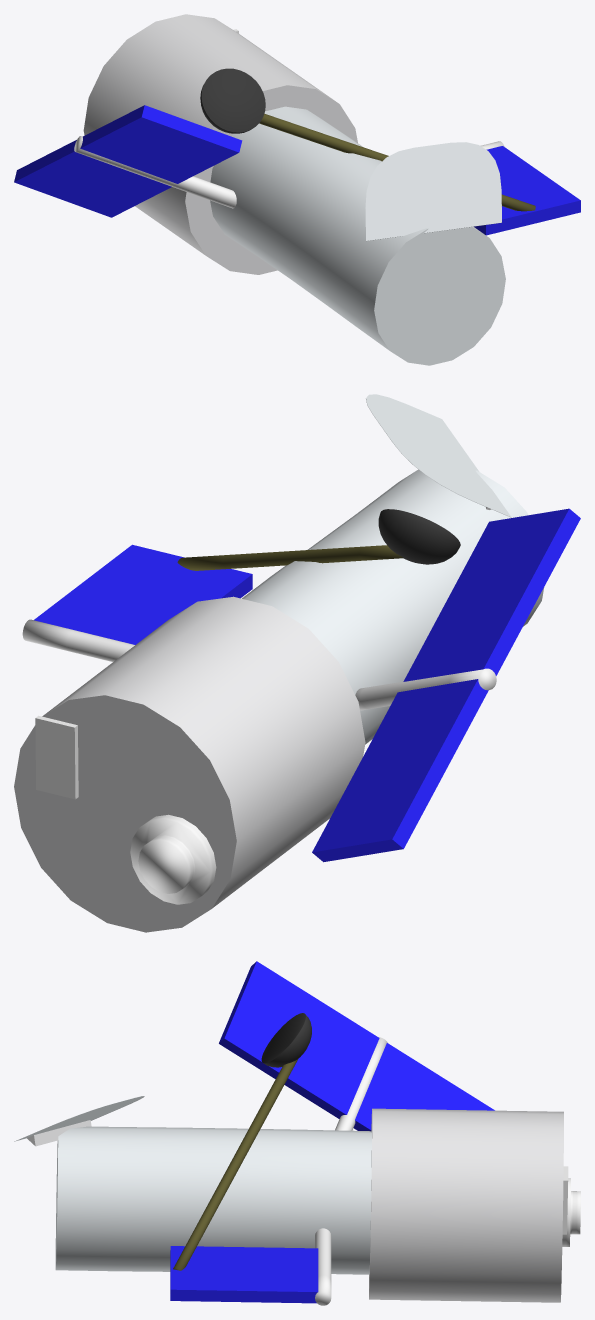
3 renders of one model, top to bottom at view 1: azimuth 30°, elevation 25°; view 2: azimuth 150°, elevation 25°; view 3: azimuth 270°, elevation 25°, orthographic. The views are drawn at different scales.
Parts seen in each view (by area): view 1: Cylinder002, Cylinder001, Box001, Line003, Sphere001, Cylinder008, Cylinder005; view 2: Cylinder001, Box001, Cylinder002, Cylinder008, Line003, Sphere001, Cylinder005; view 3: Cylinder002, Cylinder001, Box001, Cylinder008, Cylinder005, Sphere001, Line003, Line002.
Part boxes in pixels (x1,y1,x2,y2): Cylinder002: (210,106,505,365); Cylinder001: (83,14,357,274); Box001: (14,105,580,235); Line003: (365,142,501,240); Sphere001: (200,68,265,133); Cylinder008: (74,29,504,208); Cylinder005: (259,113,535,211); Cylinder001: (14,596,365,932); Box001: (34,508,580,862); Cylinder002: (242,469,544,744); Cylinder008: (22,619,496,904); Line003: (366,394,511,517); Sphere001: (378,509,460,564); Cylinder005: (177,545,403,570); Cylinder002: (55,1126,371,1274); Cylinder001: (369,1108,563,1302); Box001: (170,961,494,1303); Cylinder008: (315,1037,580,1305); Cylinder005: (173,1059,297,1270); Sphere001: (261,1013,311,1067); Line003: (14,1096,144,1141); Line002: (27,1120,91,1146).
Size of the model in its own units: 71.28 by 44.35 by 93.11.
